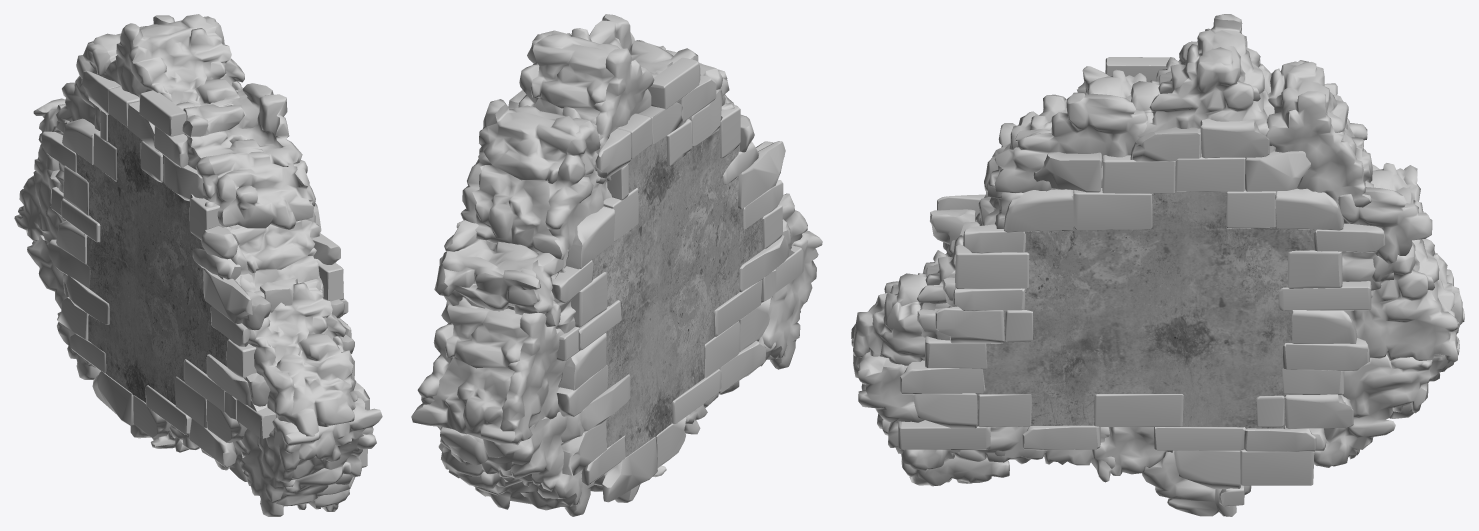
Rendered from SM_Wall_8x8_Broken_01f.fbx.
3 renders of one model, left to right at view 1: azimuth 30°, elevation 25°; view 2: azimuth 150°, elevation 25°; view 3: azimuth 270°, elevation 25°, orthographic. The views are drawn at different scales.
Parts seen in each view (by area): view 1: SM_Wall_8x8_Broken_01f_LOD0; view 2: SM_Wall_8x8_Broken_01f_LOD0; view 3: SM_Wall_8x8_Broken_01f_LOD0.
Boxes of the visible parts, x1=… form: SM_Wall_8x8_Broken_01f_LOD0: x1=14, y1=14, x2=382, y2=516; SM_Wall_8x8_Broken_01f_LOD0: x1=411, y1=14, x2=822, y2=516; SM_Wall_8x8_Broken_01f_LOD0: x1=851, y1=14, x2=1464, y2=516.
Size of the model in its own units: 230 by 949 by 782.
